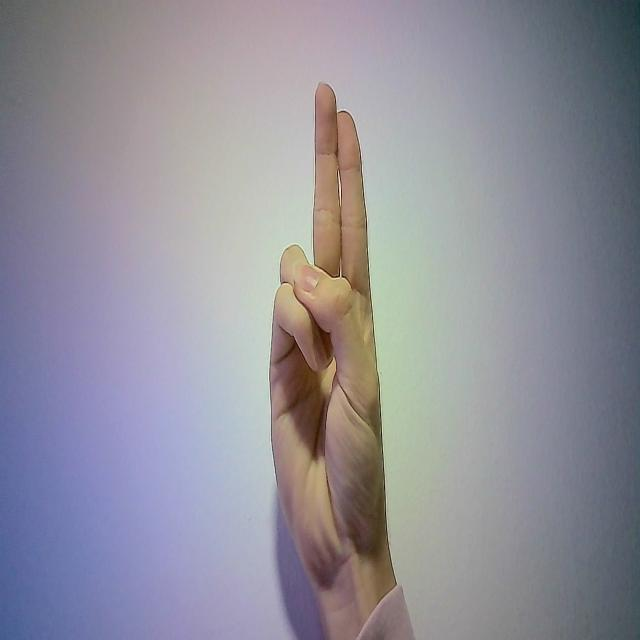U: (257, 63, 411, 566)
